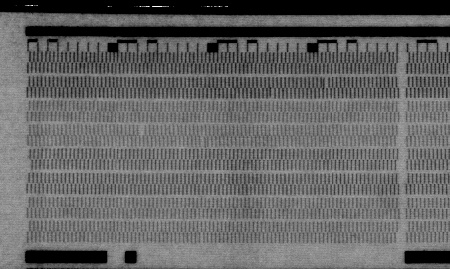Broken hole: (136, 124, 148, 137)
Oblique printing: (198, 137, 211, 150), (265, 88, 278, 101), (320, 76, 331, 89)
